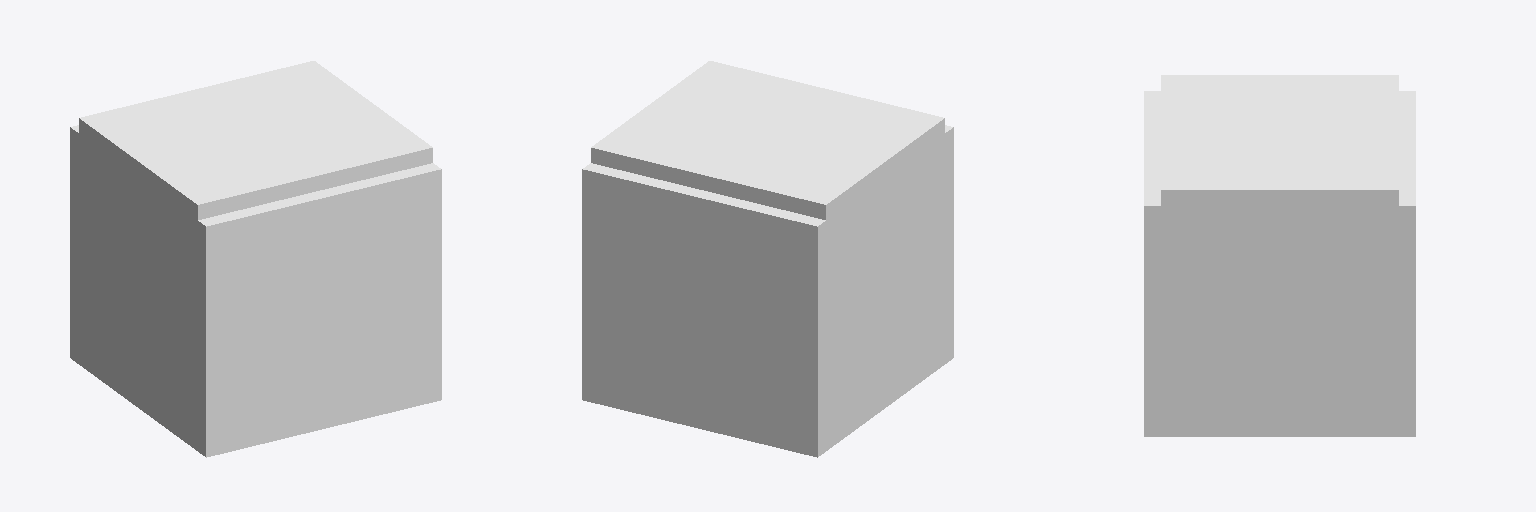
Rendered from Grass2.obj.
3 renders of one model, left to right at view 1: azimuth 30°, elevation 25°; view 2: azimuth 150°, elevation 25°; view 3: azimuth 270°, elevation 25°, orthographic.
Visible parts, largest first — view 1: object 1; view 2: object 1; view 3: object 1.
Part boxes in pixels (bbox=[...]): object 1: bbox=[70, 61, 441, 457]; object 1: bbox=[582, 61, 953, 457]; object 1: bbox=[1144, 75, 1415, 436].
Bounding box in the file's own units: 1.6 × 1.6 × 1.6.